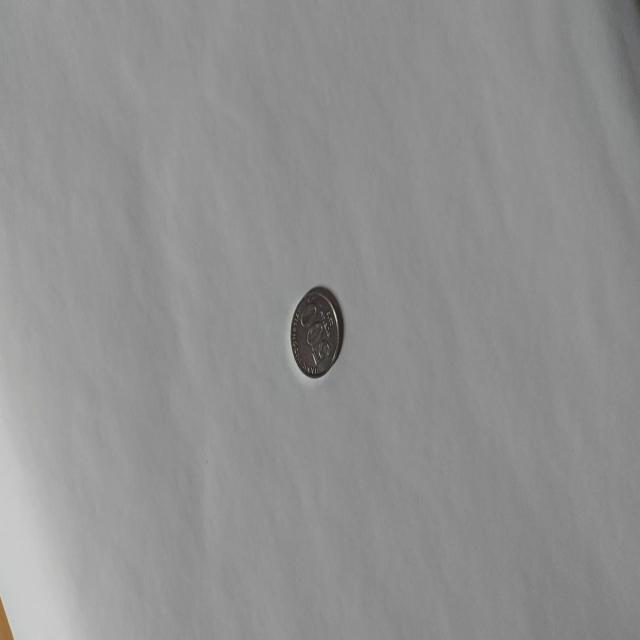lima ratus rupiah: (289, 284, 341, 380)
